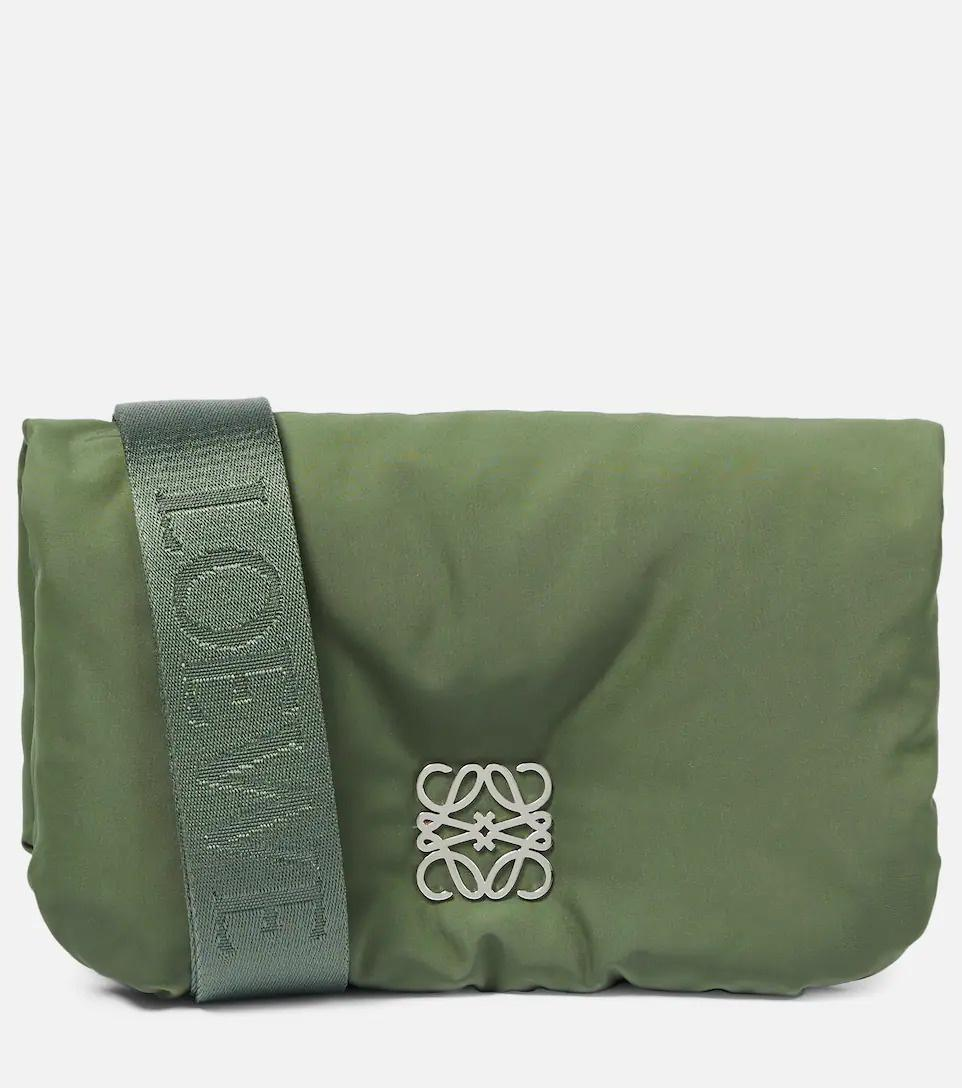LOEWE: (394, 748, 567, 915)
